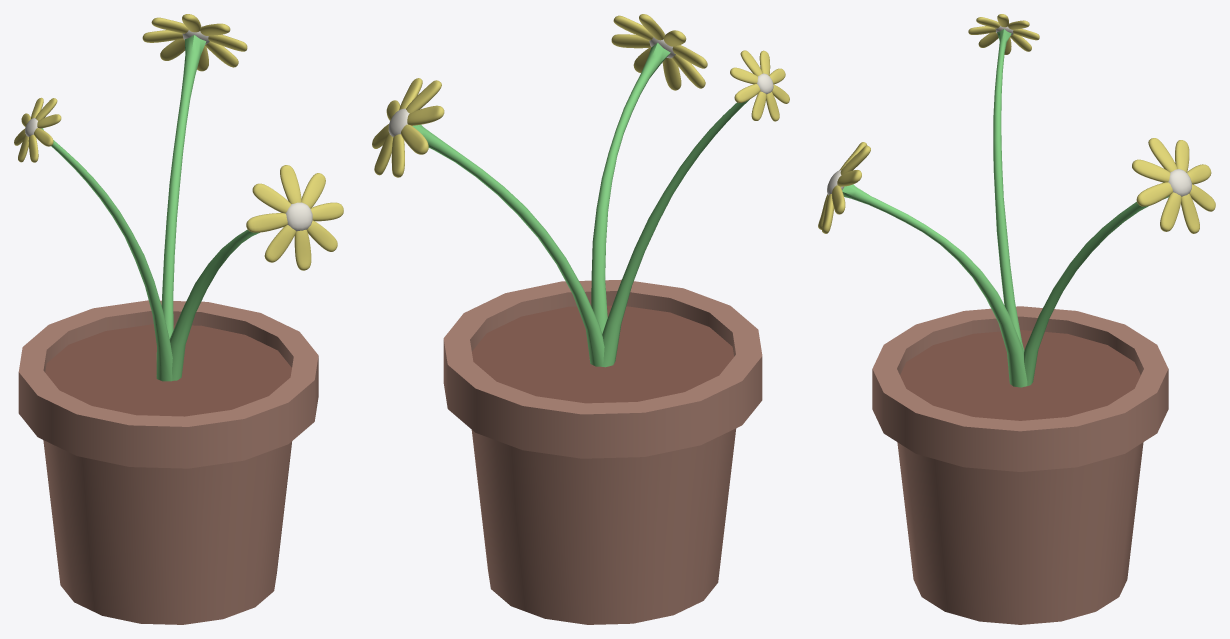
The model's file is flower.normal.fbx.
3 renders of one model, left to right at view 1: azimuth 30°, elevation 25°; view 2: azimuth 150°, elevation 25°; view 3: azimuth 270°, elevation 25°, orthographic. The views are drawn at different scales.
Visible parts, largest first — view 1: Flower; view 2: Flower; view 3: Flower.
Boxes of the visible parts, box(x1,y1,x2,y2) form: Flower: box(14, 14, 343, 624); Flower: box(372, 14, 789, 624); Flower: box(818, 14, 1215, 624).
Size of the model in its own units: 87.87 by 145 by 103.
